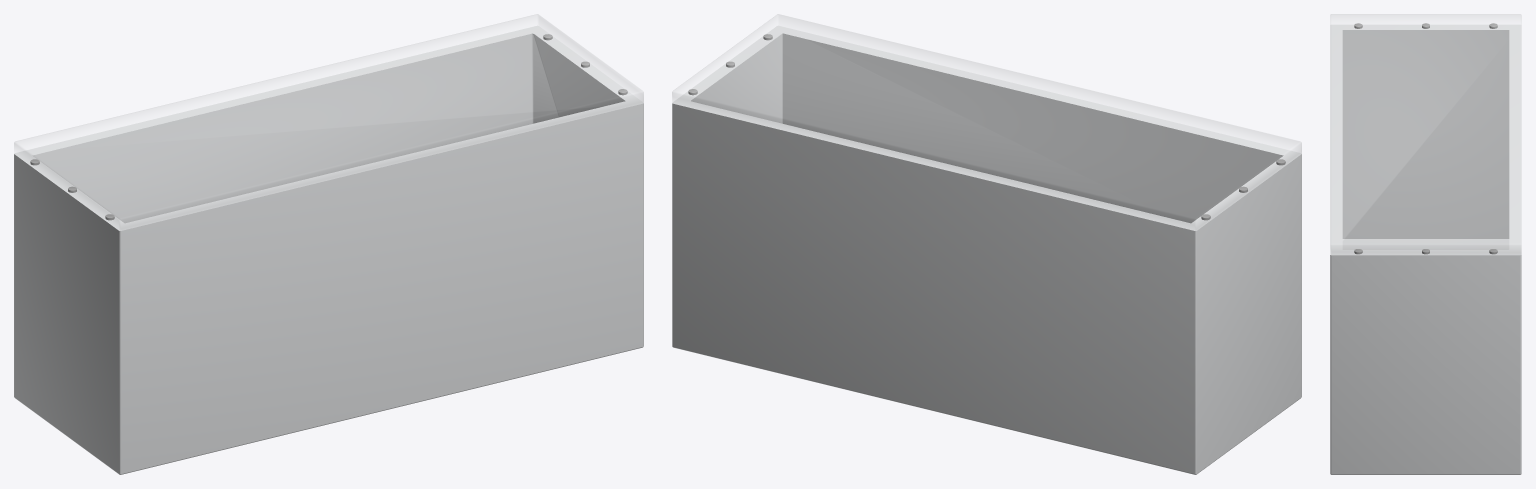
File: acrylic-case-tcg-prismatic.glb
The picture shows the model from 3 angles, left to right: view 1: azimuth 30°, elevation 25°; view 2: azimuth 150°, elevation 25°; view 3: azimuth 270°, elevation 25°; orthographic projection. The views are drawn at different scales.
Visible parts, largest first — view 1: Cube, Cube.002; view 2: Cube, Cube.002; view 3: Cube, Cube.002.
Boxes of the visible parts, box(x1,y1,x2,y2) form: Cube: box(14, 25, 643, 474); Cube.002: box(14, 14, 643, 230); Cube: box(672, 25, 1301, 474); Cube.002: box(672, 14, 1301, 230); Cube: box(1330, 24, 1521, 474); Cube.002: box(1330, 14, 1521, 254).
Bounding box in the file's own units: 0.265 × 0.124 × 0.093.
Materials: 4 (3 with a texture image).
